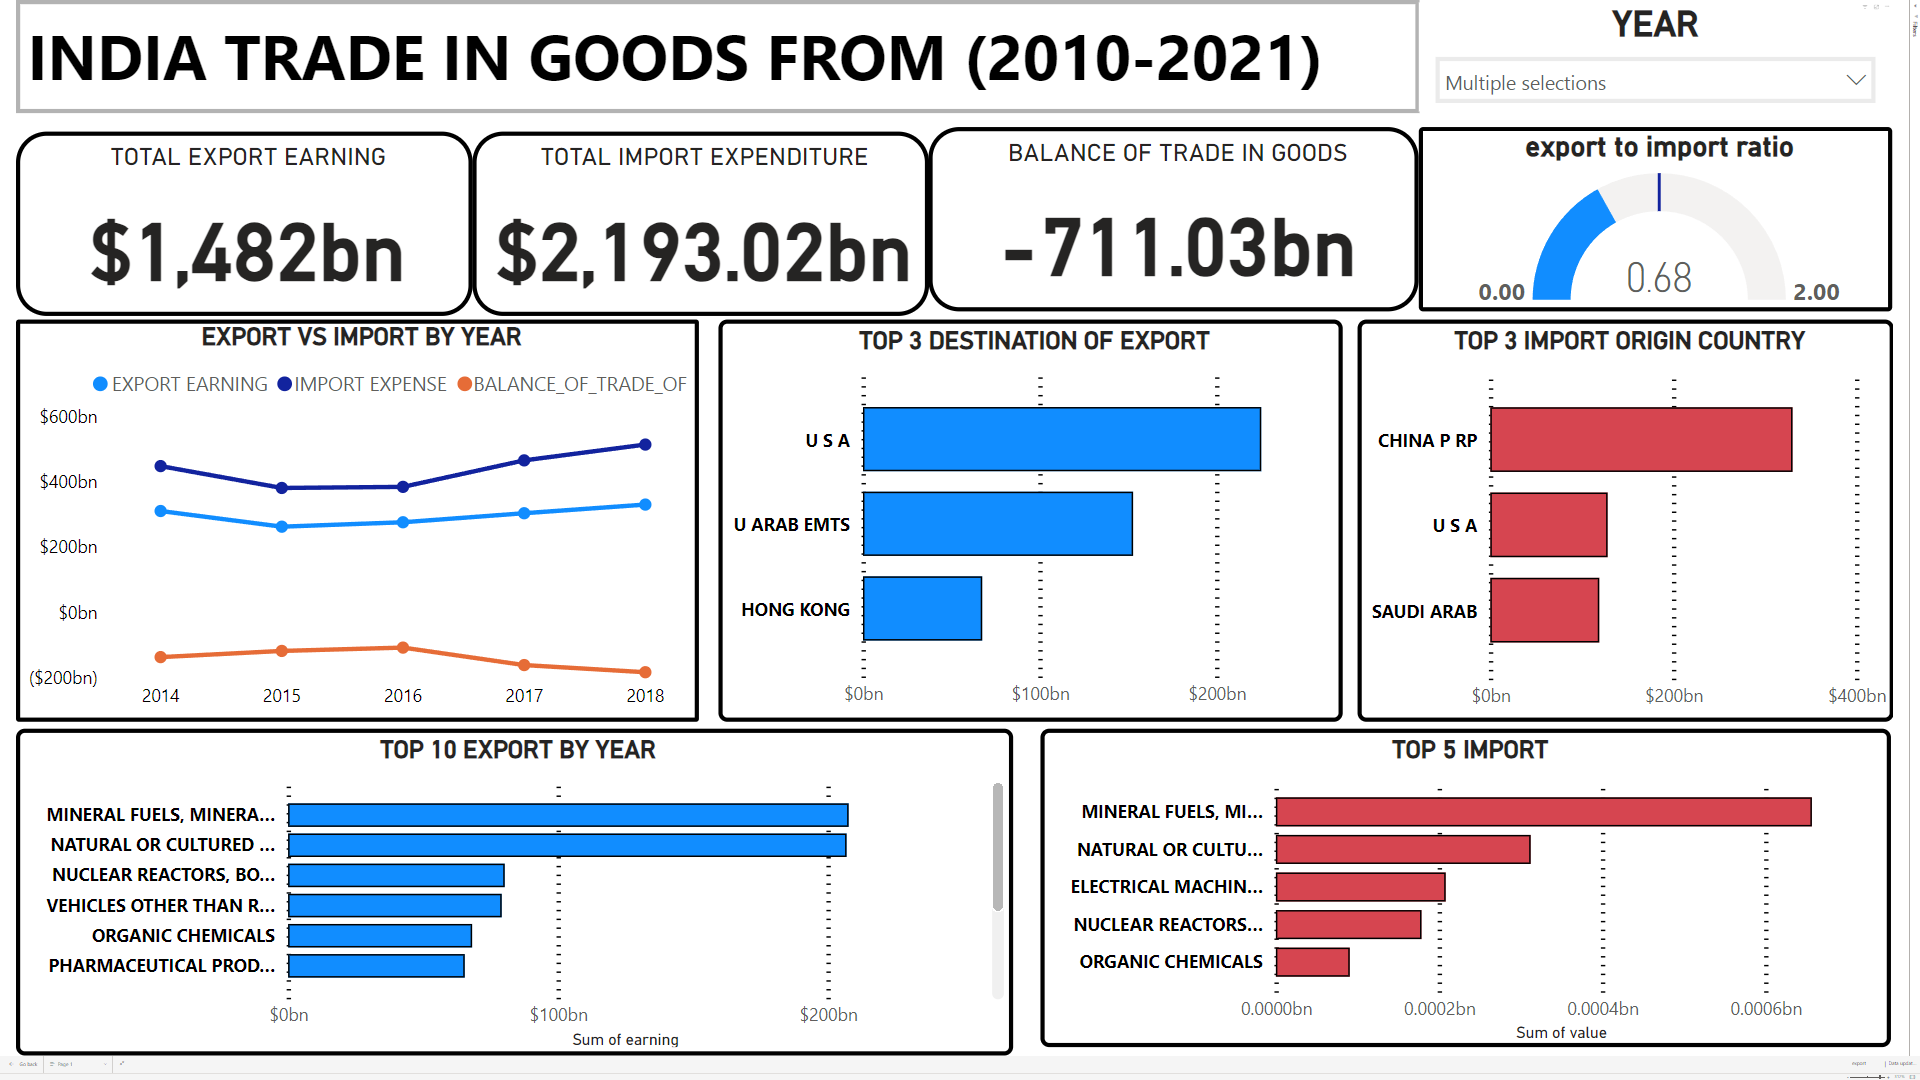

What the dashboard file says about the page in this screenshot:
{"tool":"powerbi","page":{"name":"Page 1","canvas":[1280,720],"ordinal":0},"visuals":[{"type":"textbox","box":[0,0,956.7,76.5],"z":0},{"type":"slicer","title":"YEAR","fields":{"Values":["2010_2021_HS2_import.year"]},"box":[956.7,1.7,322.8,74.9],"z":1000},{"type":"card","title":"TOTAL EXPORT EARNING","fields":{"Values":["Sum(2010_2021_HS2_export.earning)"]},"box":[0,89.9,311.1,124.8],"z":2000},{"type":"card","title":"TOTAL IMPORT EXPENDITURE","fields":{"Values":["Sum(2010_2021_HS2_import.expense_on_import)"]},"box":[311.1,89.9,311.1,124.8],"z":3000},{"type":"card","title":"BALANCE OF TRADE IN GOODS","fields":{"Values":["2010_2021_HS2_import.BALANCE_OF_TRADE_OF"]},"box":[622.3,86.5,334.4,124.8],"z":4000},{"type":"gauge","fields":{"Y":["2010_2021_HS2_export.export to import ratio"]},"box":[956.7,86.5,322.8,124.8],"z":6000},{"type":"lineChart","title":"EXPORT VS IMPORT BY YEAR","fields":{"Category":["2010_2021_HS2_export.year"],"Y":["Sum(2010_2021_HS2_export.earning)","Sum(2010_2021_HS2_import.expense_on_import)","2010_2021_HS2_import.BALANCE_OF_TRADE_OF"]},"box":[0,217.9,465.7,273.1],"z":7000},{"type":"barChart","title":"TOP 10 EXPORT BY YEAR","fields":{"Category":["2010_2021_HS2_export.Commodity"],"Y":["Sum(2010_2021_HS2_export.earning)"]},"box":[0,497,679.1,222.4],"z":7001},{"type":"barChart","title":"TOP 5 IMPORT","fields":{"Category":["2010_2021_HS2_import.Commodity"],"Y":["Sum(2010_2021_HS2_import.value)"]},"box":[698.5,497,580.6,217.9],"z":7002},{"type":"barChart","title":"TOP 3 DESTINATION OF EXPORT","fields":{"Category":["2010_2021_HS2_export.country"],"Y":["Sum(2010_2021_HS2_export.earning)"]},"box":[479.1,217.9,425.4,273.1],"z":7003},{"type":"barChart","title":"TOP 3 IMPORT  ORIGIN COUNTRY","fields":{"Y":["Sum(2010_2021_HS2_import.expense_on_import)"],"Category":["2010_2021_HS2_import.country"]},"box":[914.9,217.9,365.7,274.6],"z":7004}]}

Visuals, with their boxes in screenshot pixels (x1, y1, x2, y2):
textbox: region(5, 0, 1420, 108)
"YEAR" slicer: region(1420, 0, 1898, 108)
"TOTAL EXPORT EARNING" card: region(5, 128, 465, 313)
"TOTAL IMPORT EXPENDITURE" card: region(465, 128, 925, 313)
"BALANCE OF TRADE IN GOODS" card: region(926, 123, 1420, 308)
gauge - 2010_2021_HS2_export.export to import ratio: region(1420, 123, 1898, 308)
"EXPORT VS IMPORT BY YEAR" lineChart: region(5, 317, 694, 721)
"TOP 10 EXPORT BY YEAR" barChart: region(5, 730, 1010, 1059)
"TOP 5 IMPORT" barChart: region(1038, 730, 1897, 1053)
"TOP 3 DESTINATION OF EXPORT" barChart: region(714, 317, 1343, 721)
"TOP 3 IMPORT  ORIGIN COUNTRY" barChart: region(1358, 317, 1899, 724)
